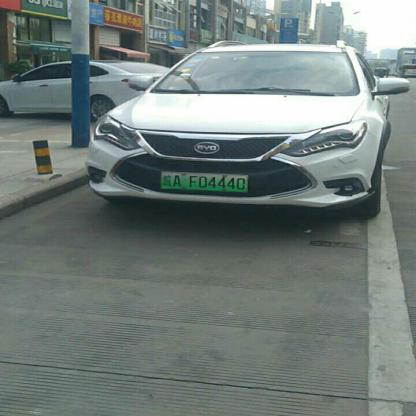lp: (161, 170, 247, 192)
